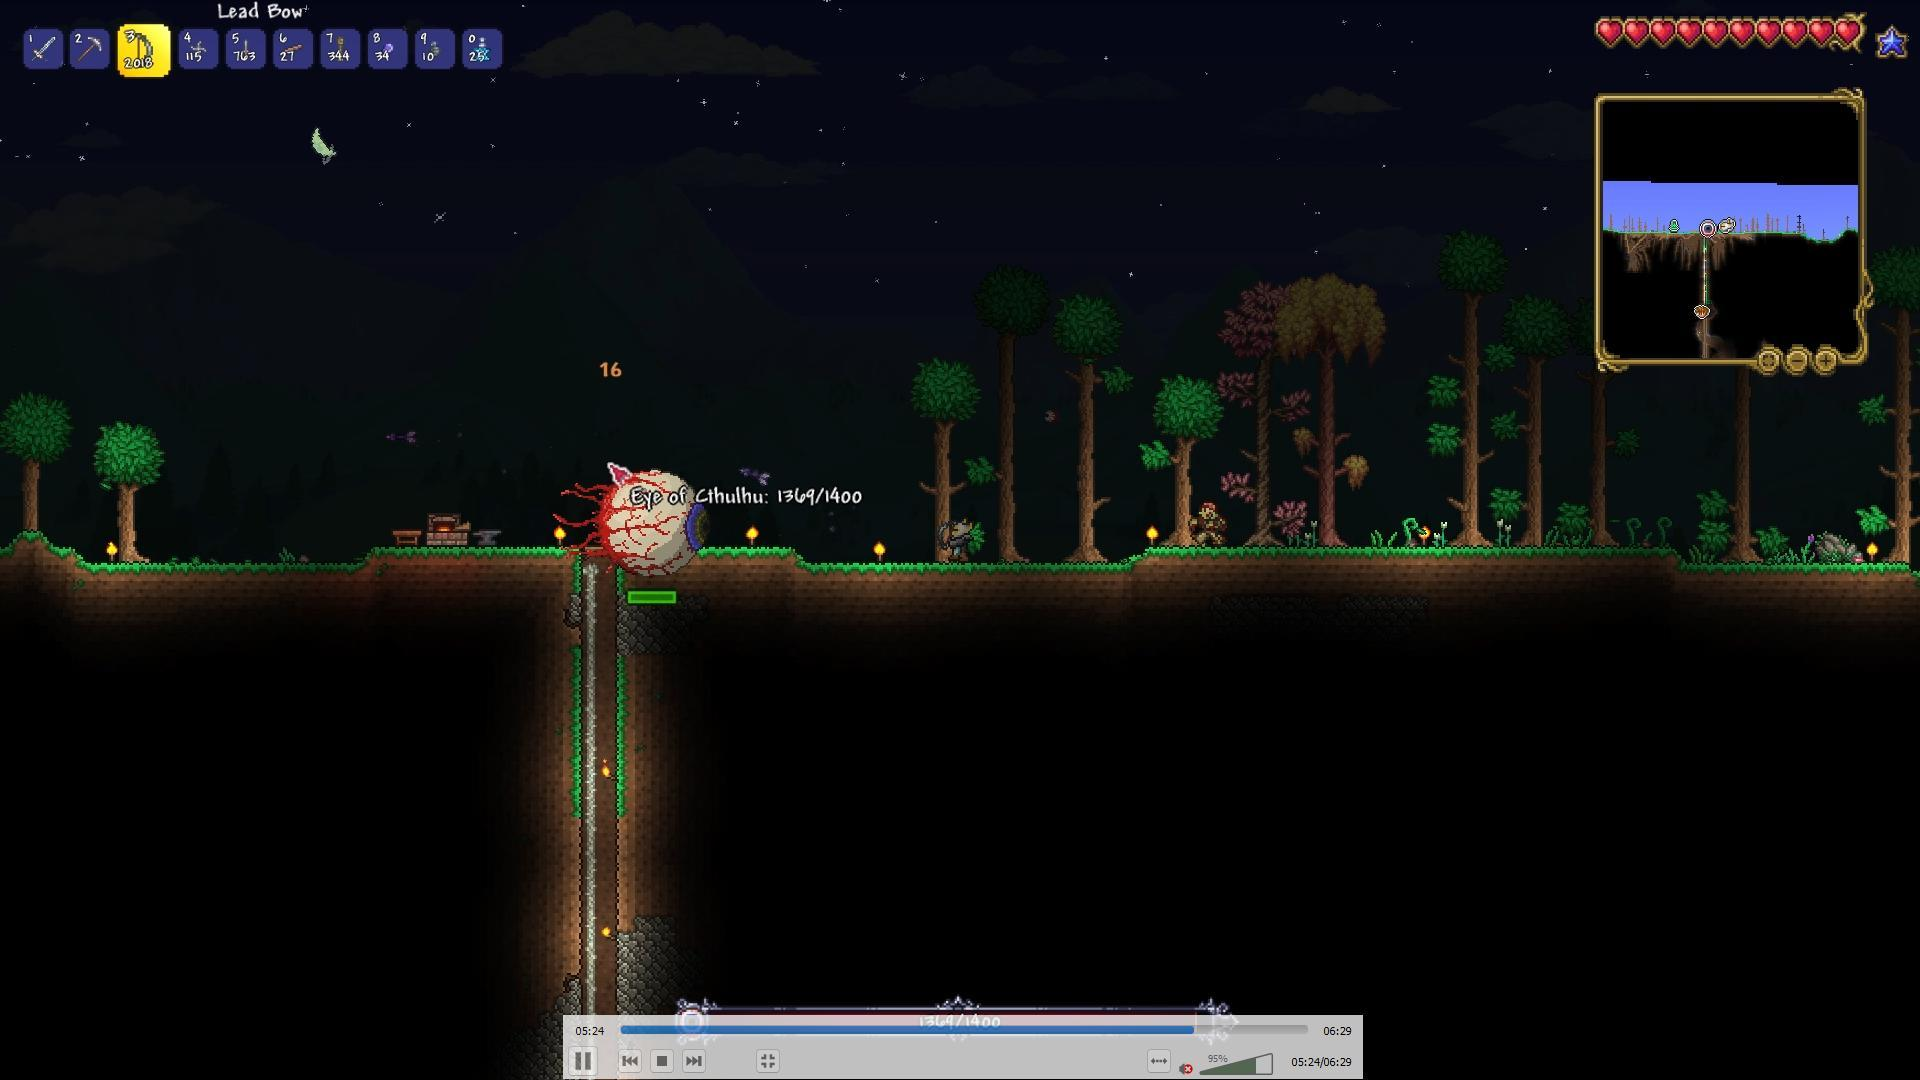eyeC: (553, 468, 712, 582)
